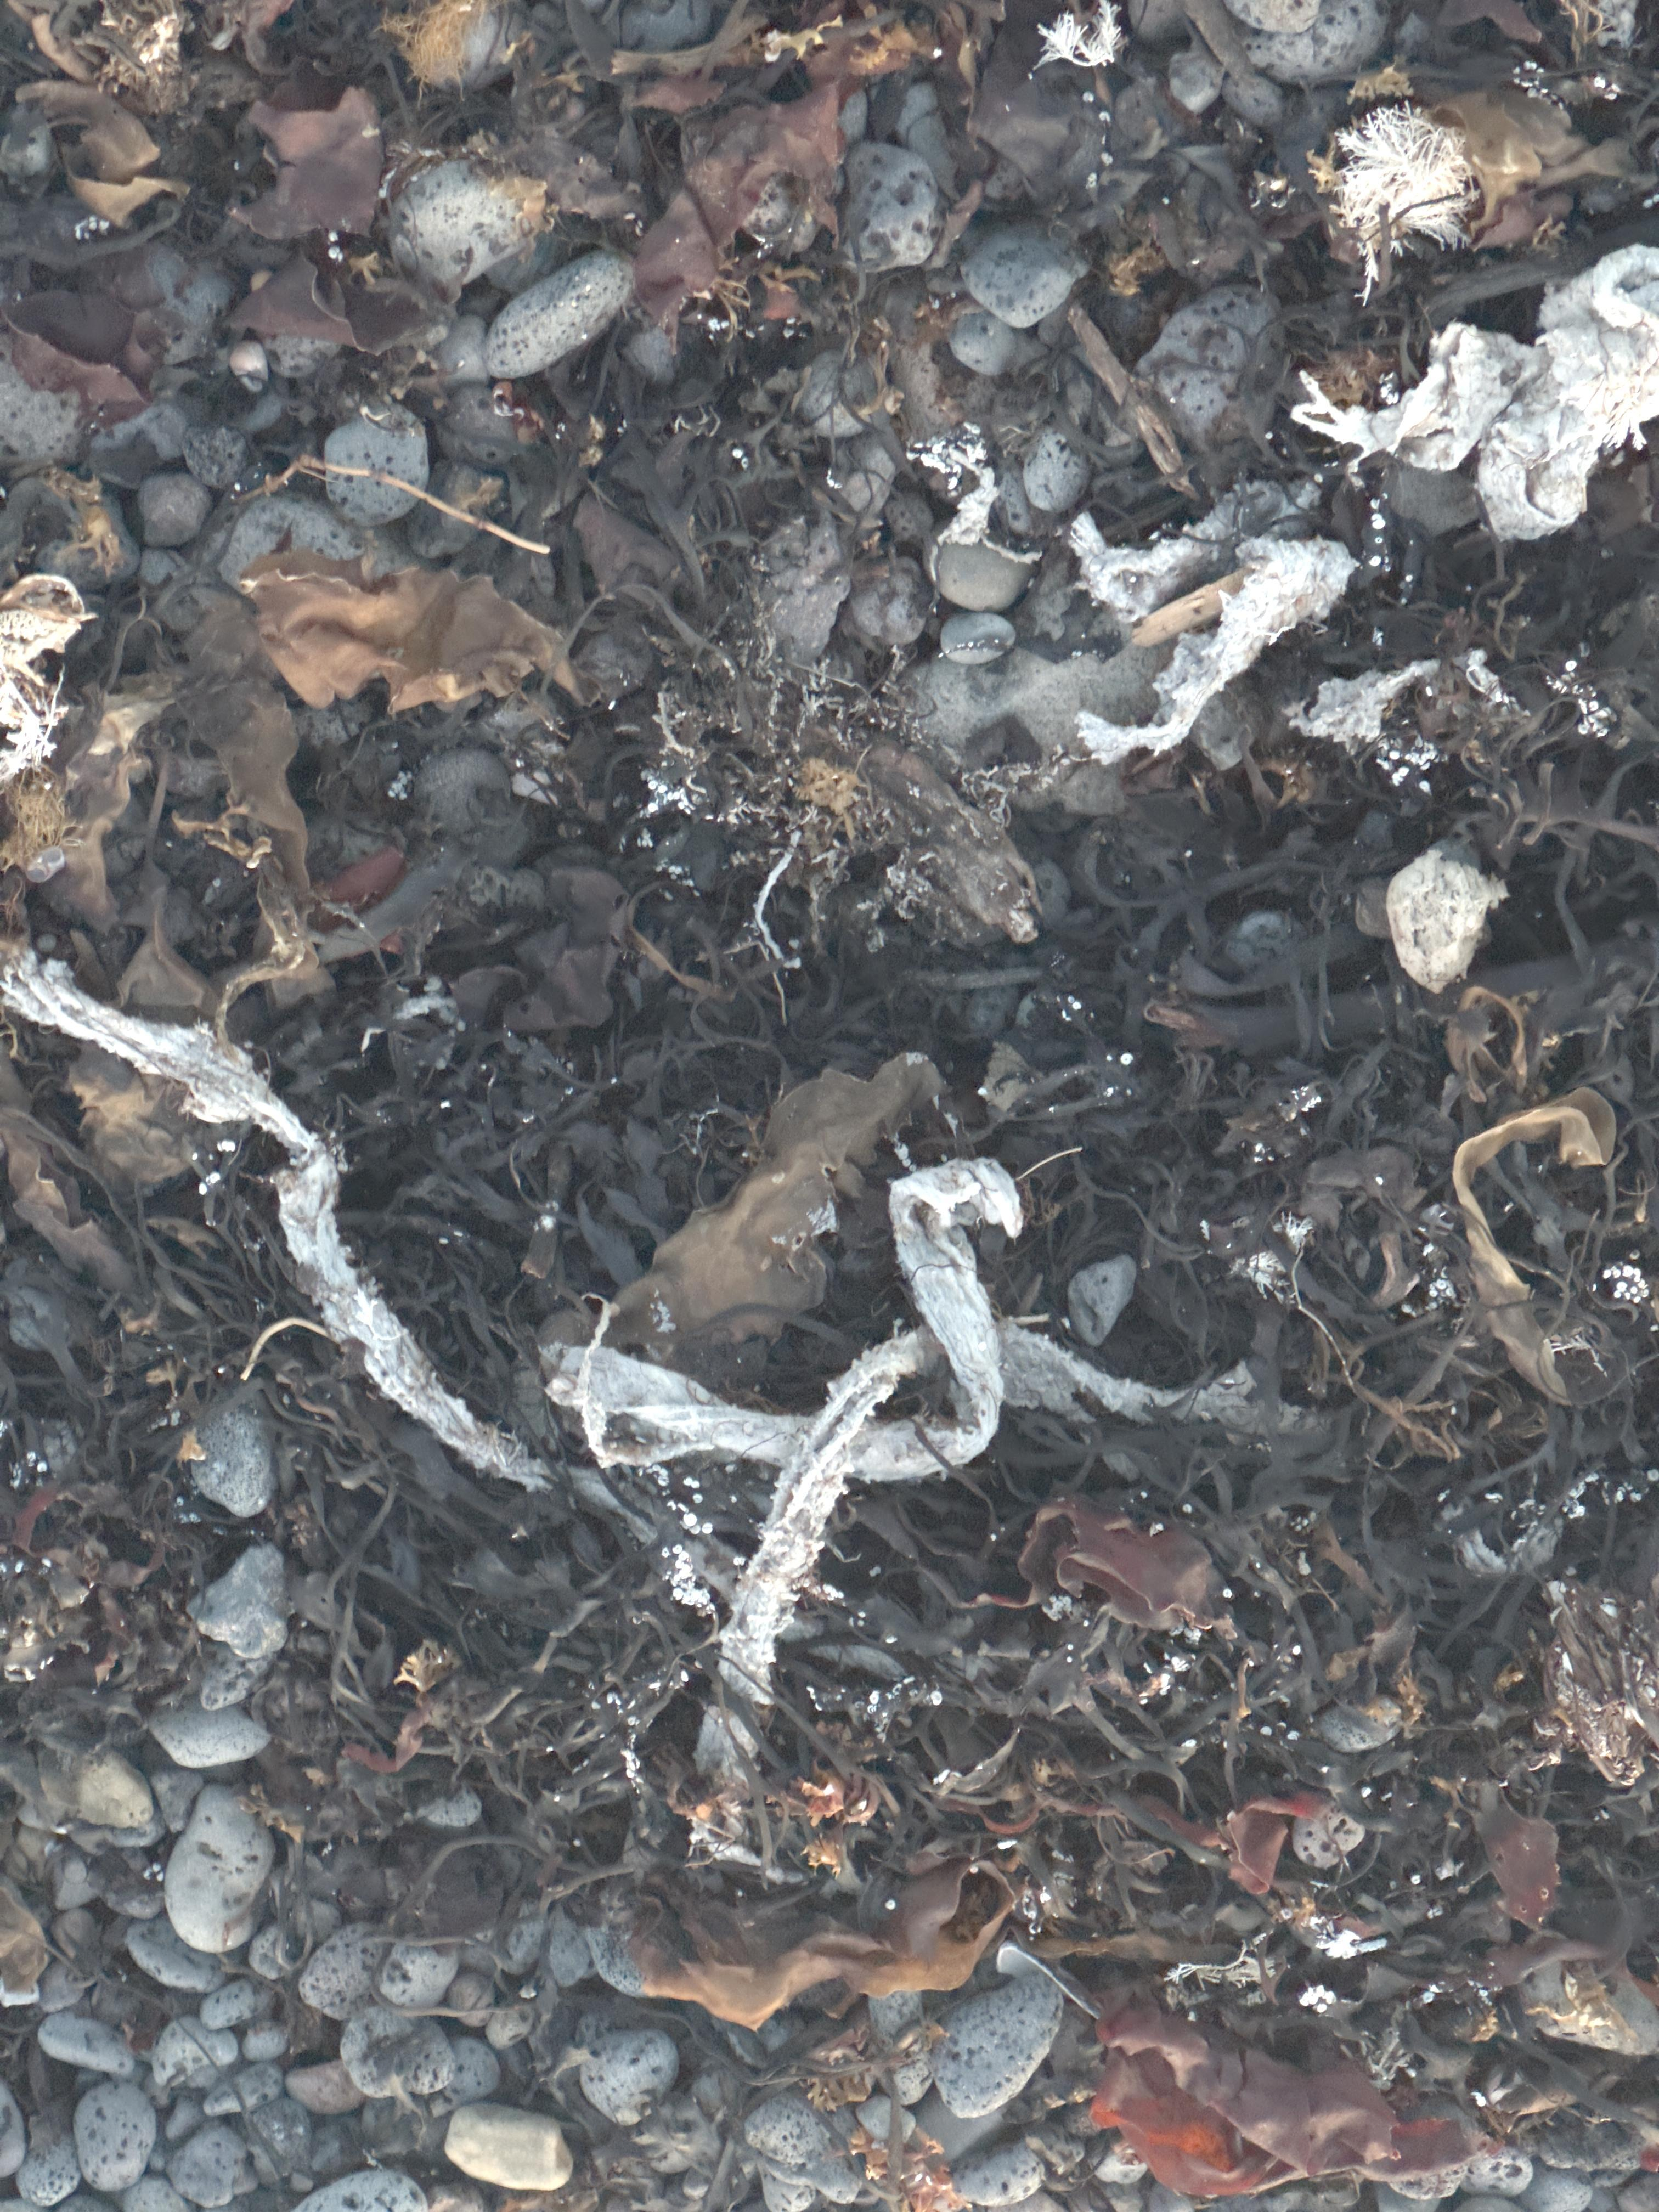trash: (0, 942, 549, 1491), (721, 1331, 938, 1702), (847, 1158, 1025, 1482), (544, 1343, 812, 1465), (999, 1322, 1300, 1430), (701, 1710, 756, 1780)
